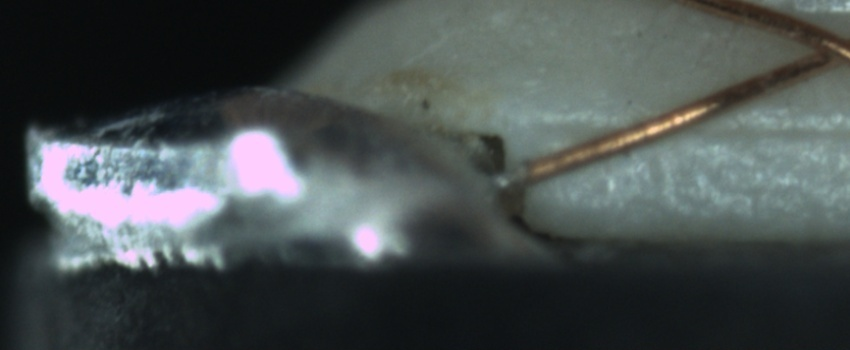CL: (792, 18, 850, 74)
DL: (546, 95, 850, 161)
